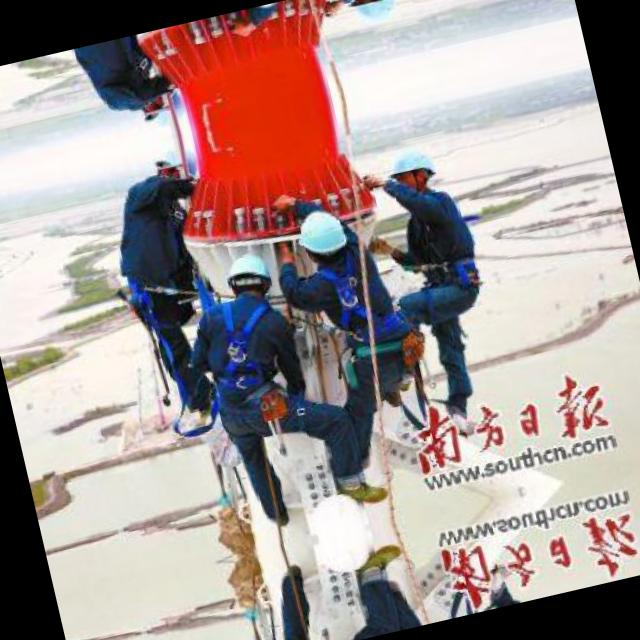helmet: (288, 200, 354, 270), (380, 142, 442, 194), (143, 139, 205, 190), (130, 82, 192, 133), (219, 250, 272, 304), (341, 0, 404, 27)
